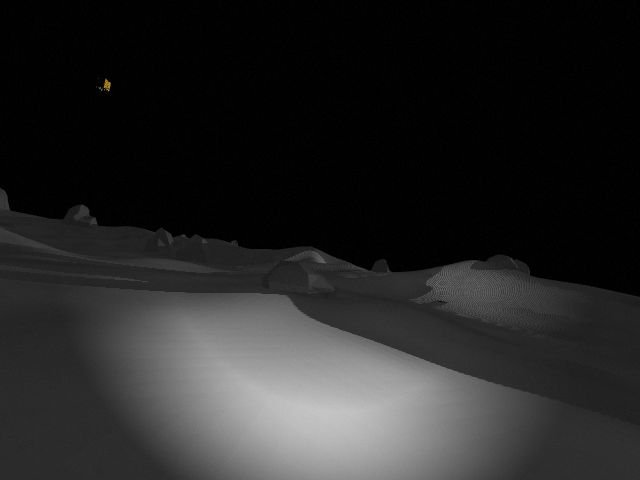cubesat: (94, 75, 112, 95)
